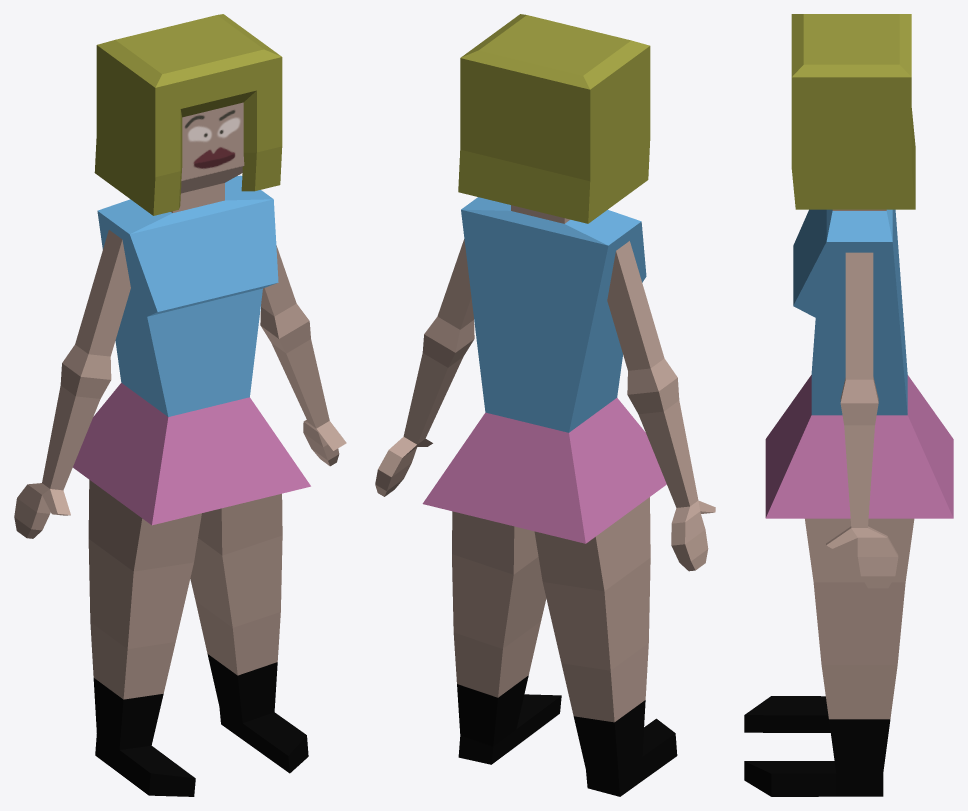
Rendered from Mother.fbx.
The picture shows the model from 3 angles, left to right: view 1: azimuth 30°, elevation 25°; view 2: azimuth 150°, elevation 25°; view 3: azimuth 270°, elevation 25°; orthographic projection. The views are drawn at different scales.
Parts seen in each view (by area): view 1: Body, LegR, LegL, ArmR, ArmL; view 2: Body, LegR, LegL, ArmR, ArmL; view 3: Body, LegL, ArmL, LegR.
Part boxes in pixels (left/top/right/bottom): Body: left=73, top=14, right=310, bottom=525; LegR: left=88, top=480, right=201, bottom=796; LegL: left=190, top=493, right=308, bottom=773; ArmR: left=14, top=230, right=130, bottom=538; ArmL: left=260, top=245, right=346, bottom=466; Body: left=422, top=14, right=666, bottom=543; LegR: left=534, top=497, right=677, bottom=796; LegL: left=452, top=511, right=561, bottom=764; ArmR: left=607, top=241, right=715, bottom=571; ArmL: left=375, top=239, right=474, bottom=496; Body: left=765, top=14, right=953, bottom=518; LegL: left=744, top=518, right=914, bottom=796; ArmL: left=826, top=252, right=898, bottom=588; LegR: left=744, top=696, right=830, bottom=732.
Size of the model in its own units: 0.8946 by 1.94 by 0.5119.
